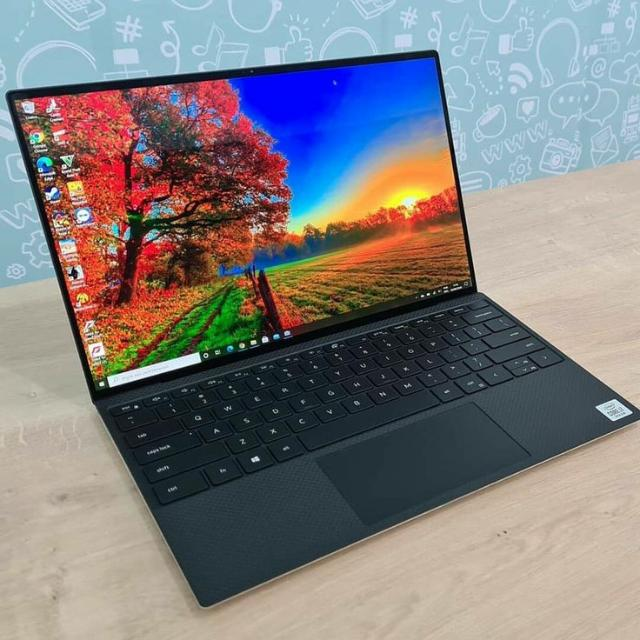laptop: (2, 45, 636, 610)
